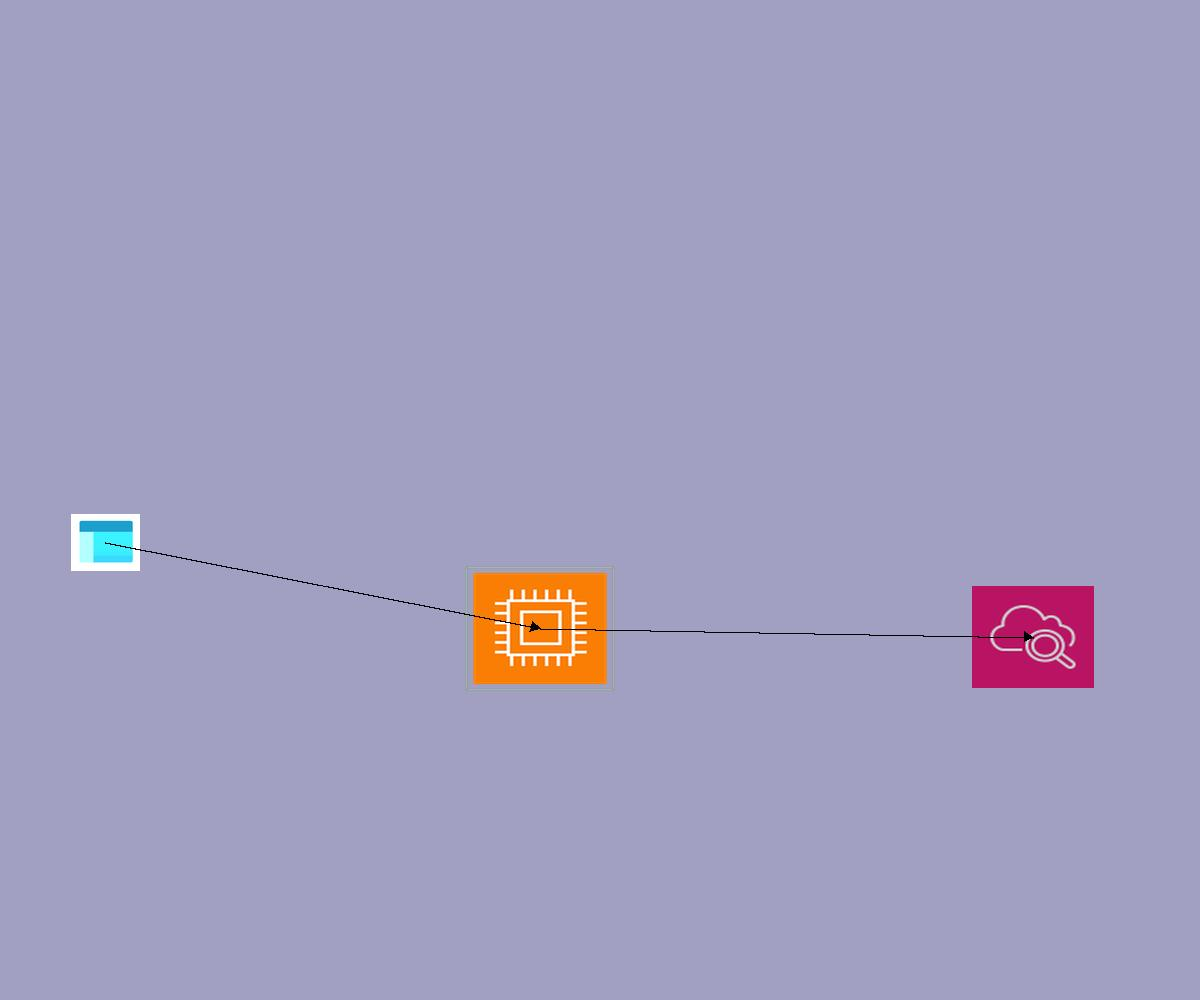AWS-Category_Compute: (465, 566, 615, 691)
AWS-CloudWatch: (972, 586, 1094, 688)
Azure_management-portal: (71, 514, 140, 571)
